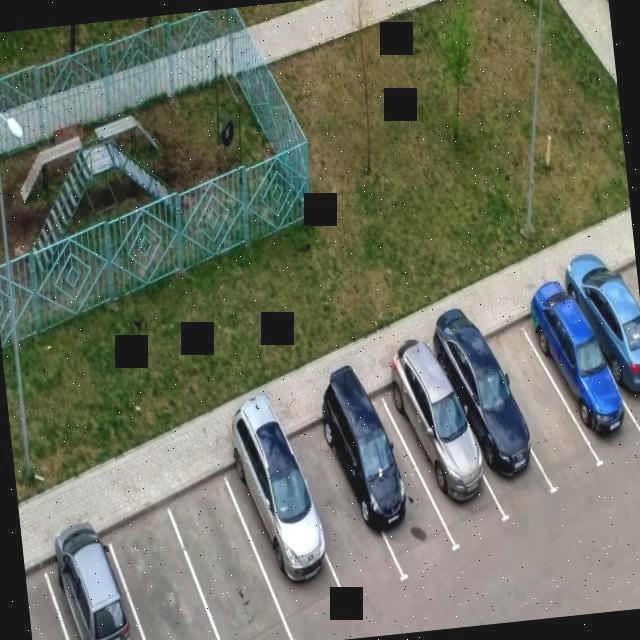space-empty: (486, 296, 601, 525), (170, 472, 275, 640), (119, 505, 212, 640), (610, 232, 640, 410)
space-occupied: (323, 366, 463, 593), (440, 309, 550, 565), (277, 399, 398, 624), (232, 410, 334, 631), (389, 342, 495, 551), (523, 273, 632, 472), (561, 247, 640, 434), (52, 542, 146, 640)
